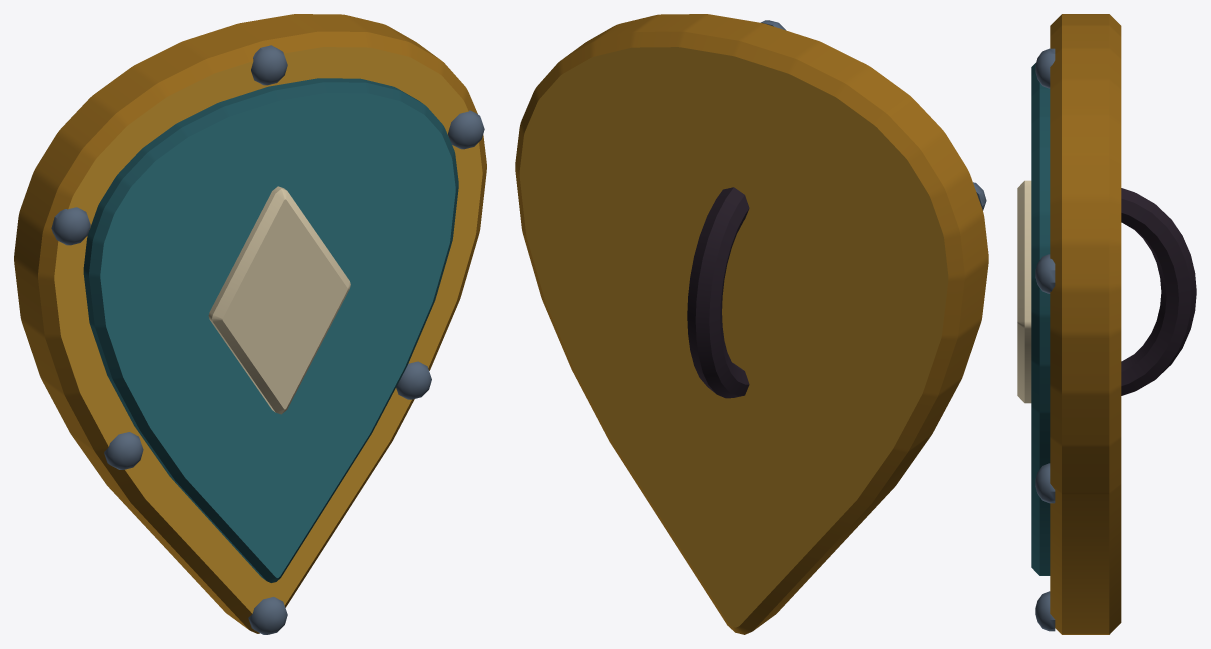
The model's file is KiteShield_12.glb.
3 renders of one model, left to right at view 1: azimuth 30°, elevation 25°; view 2: azimuth 150°, elevation 25°; view 3: azimuth 270°, elevation 25°, orthographic.
Parts seen in each view (by area): view 1: KiteShield_12; view 2: KiteShield_12; view 3: KiteShield_12.
Boxes of the visible parts, x1=… form: KiteShield_12: x1=14, y1=14, x2=486, y2=634; KiteShield_12: x1=515, y1=14, x2=988, y2=634; KiteShield_12: x1=1017, y1=14, x2=1196, y2=634.
Size of the model in its own units: 2.17 by 2.73 by 0.76.
